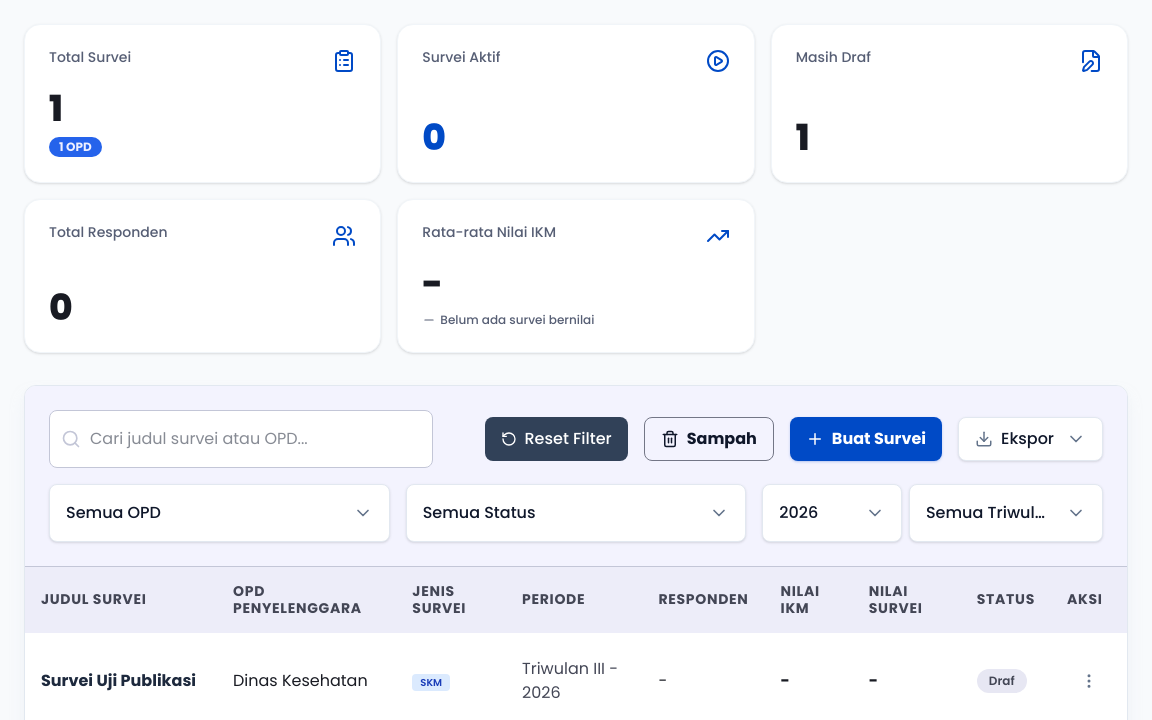
Scenario: Umpan balik aksi survei (TC-FE-006) › menampilkan pesan backend apa adanya saat aksi gagal
Expected: the text "Survei Uji Publikasi" is shown, [41,669,201,693]
Click the button named "aksi untuk" at (1089, 681), box [1067,659,1111,703]
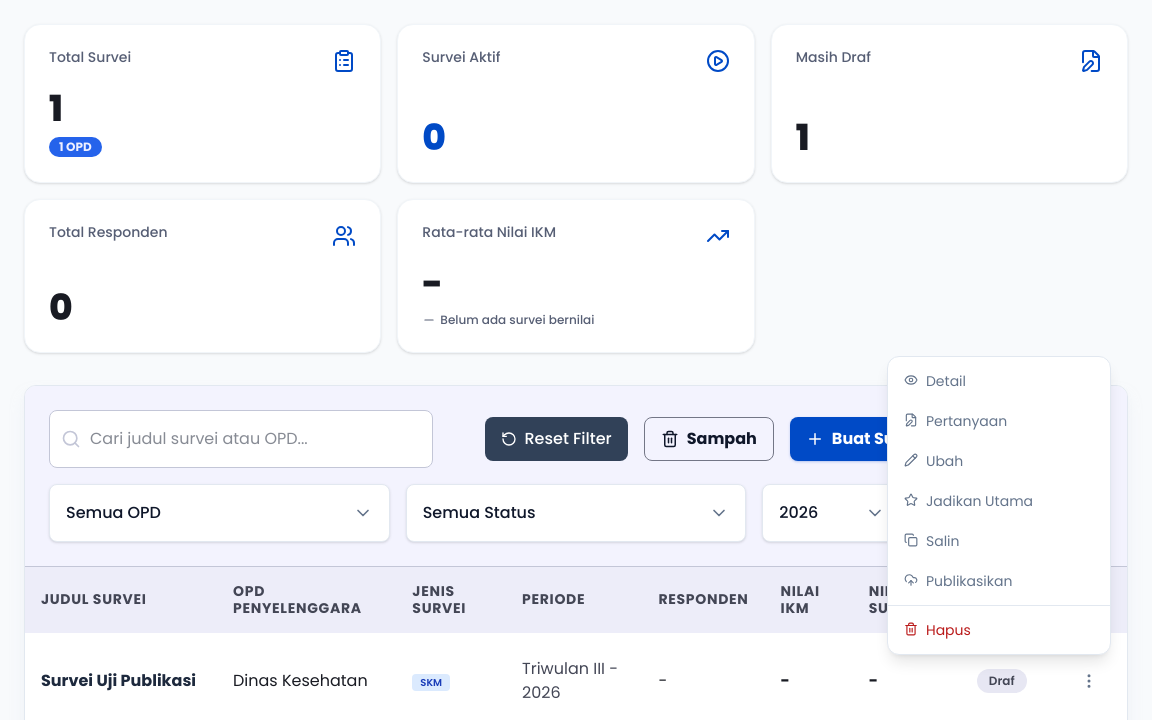
Click the menu item "Publikasikan" at (999, 581), box [888,561,1110,601]
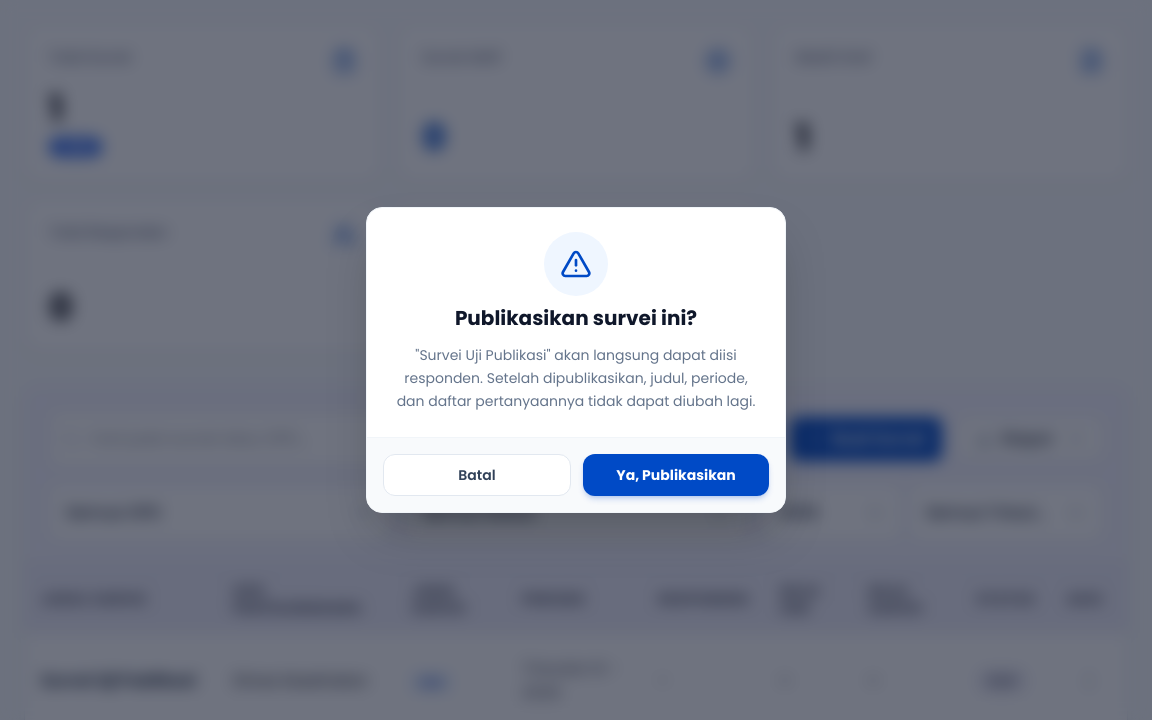
Click the button "Ya, Publikasikan" at (676, 475), box [583,454,769,496]
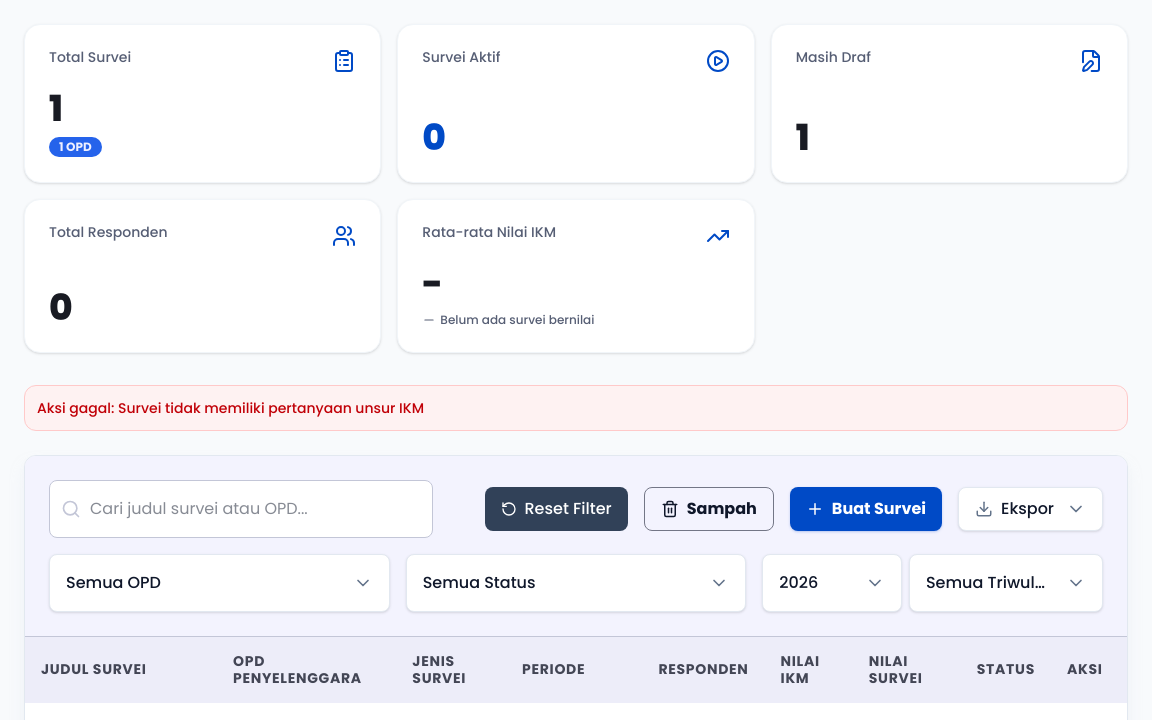
Expected: the text "Aksi gagal: Survei tidak memiliki pertanyaan unsur IKM" is shown, [24,385,1128,431]
